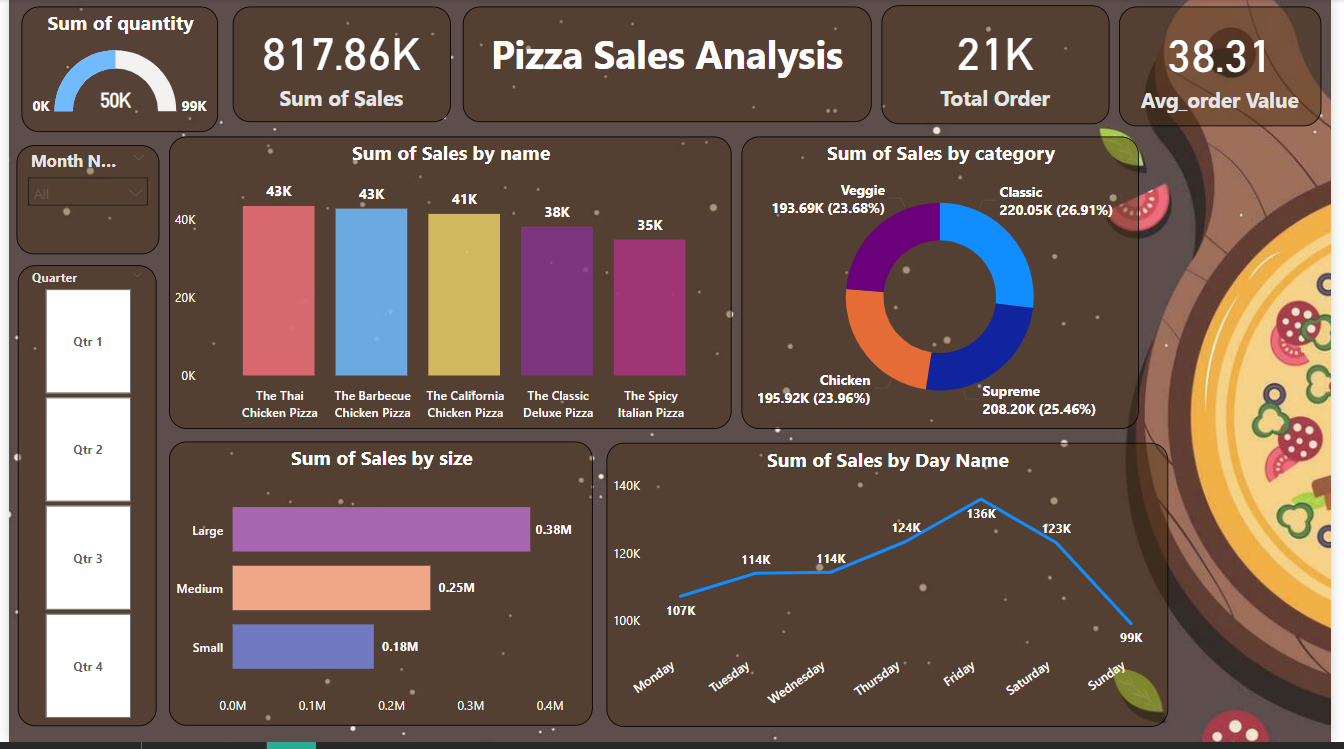

What the dashboard file says about the page in this screenshot:
{"tool":"powerbi","page":{"name":"Dashboard","canvas":[1280,720],"ordinal":0},"visuals":[{"type":"lineChart","fields":{"Category":["orders pizza.Day Name"],"Y":["Sum(order_details pizza.Sales)"]},"box":[579.2,430,543.6,275.2],"z":0},{"type":"textbox","box":[439.5,6.8,395.7,112.3],"z":1000},{"type":"columnChart","fields":{"Category":["pizza_types.name"],"Y":["Sum(order_details pizza.Sales)"]},"box":[154.7,132.8,545,283.4],"z":2000},{"type":"donutChart","fields":{"Category":["pizza_types.category"],"Y":["Sum(order_details pizza.Sales)"]},"box":[709.3,132.8,384.8,283.4],"z":3000},{"type":"barChart","fields":{"Category":["pizzas.size"],"Y":["Sum(order_details pizza.Sales)"]},"box":[154.7,428.6,410.8,275.2],"z":4000},{"type":"card","fields":{"Values":["Sum(order_details pizza.Sales)"]},"box":[216.3,6.8,210.9,112.3],"z":5000},{"type":"card","fields":{"Values":["order_details pizza.Total Order"]},"box":[844.8,5.5,220.5,115],"z":6000},{"type":"card","fields":{"Values":["order_details pizza.Avg_order Value"]},"box":[1074.9,6.8,195.8,116.4],"z":7000},{"type":"gauge","fields":{"Y":["Sum(order_details pizza.quantity)"]},"box":[12.3,6.8,190.3,121.9],"z":8000},{"type":"slicer","fields":{"Values":["orders pizza.Month Name"]},"box":[6.8,141,138.3,105.4],"z":10000},{"type":"slicer","fields":{"Values":["orders pizza.date.Variation.Date Hierarchy.Quarter"]},"box":[8.5,257.8,134.4,446.7],"z":10001}]}

Visuals, with their boxes in screenshot pixels (x1, y1, x2, y2), scaled from the page's 1280x720 canvas onto the 1344x749 screenshot:
lineChart - orders pizza.Day Name x Sum(order_details pizza.Sales): bbox=(608, 447, 1179, 734)
textbox: bbox=(461, 7, 877, 124)
columnChart - pizza_types.name x Sum(order_details pizza.Sales): bbox=(162, 138, 735, 433)
donutChart - pizza_types.category x Sum(order_details pizza.Sales): bbox=(745, 138, 1149, 433)
barChart - pizzas.size x Sum(order_details pizza.Sales): bbox=(162, 446, 594, 732)
card - Sum(order_details pizza.Sales): bbox=(227, 7, 449, 124)
card - order_details pizza.Total Order: bbox=(887, 6, 1119, 125)
card - order_details pizza.Avg_order Value: bbox=(1129, 7, 1334, 128)
gauge - Sum(order_details pizza.quantity): bbox=(13, 7, 213, 134)
slicer - orders pizza.Month Name: bbox=(7, 147, 152, 256)
slicer - orders pizza.date.Variation.Date Hierarchy.Quarter: bbox=(9, 268, 150, 733)
